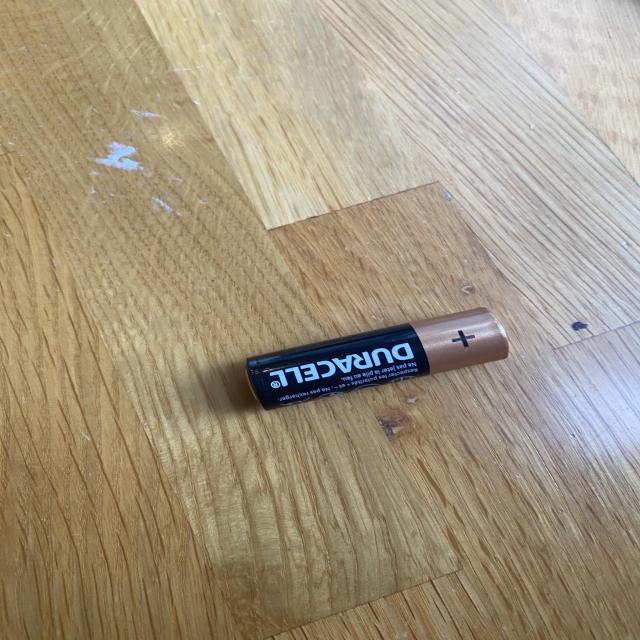AA: (241, 303, 514, 413)
